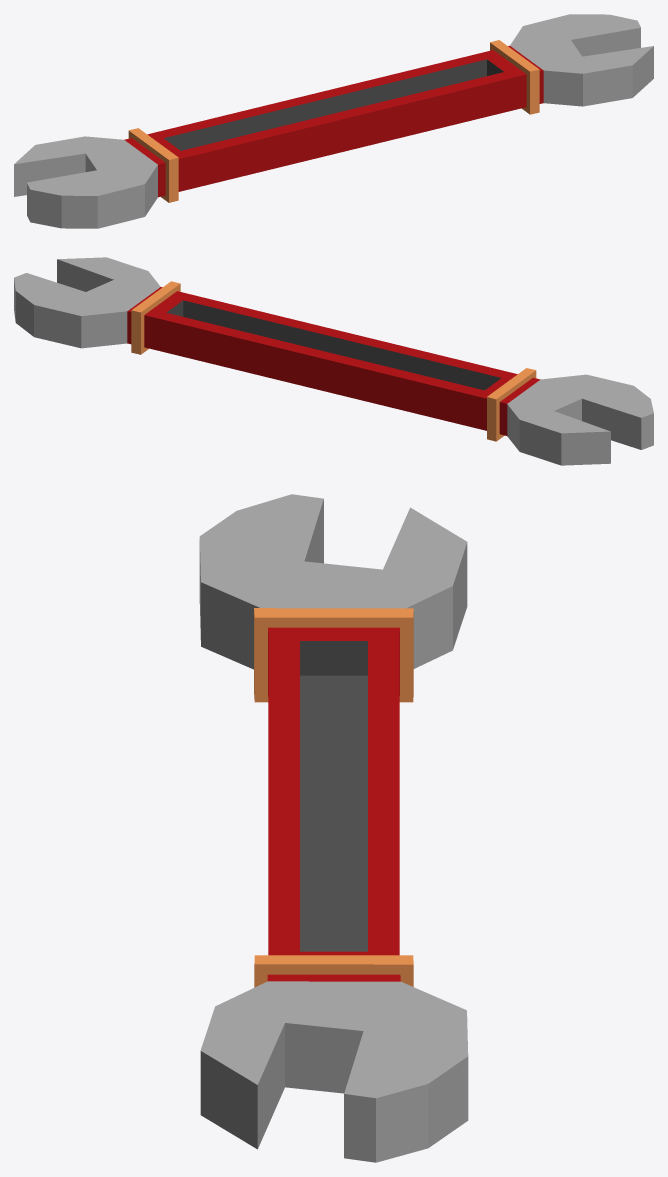
Rendered from big_wrench.fbx.
3 renders of one model, top to bottom at view 1: azimuth 30°, elevation 25°; view 2: azimuth 150°, elevation 25°; view 3: azimuth 270°, elevation 25°, orthographic. The views are drawn at different scales.
Parts seen in each view (by area): view 1: Mesh; view 2: Mesh; view 3: Mesh.
Boxes of the visible parts, x1,y1,x2,y2 form: Mesh: (14,14,653,228); Mesh: (14,257,653,465); Mesh: (199,494,468,1162).
Bounding box in the file's own units: 3.59 × 0.2342 × 0.6737.
